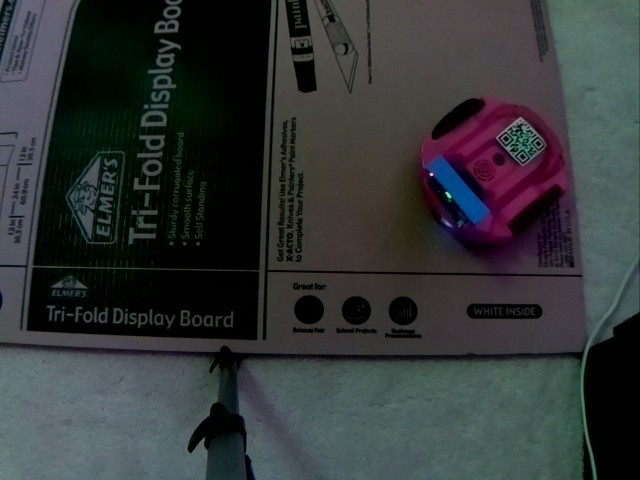chassis: (421, 88, 575, 249)
qr: (494, 114, 551, 168)
